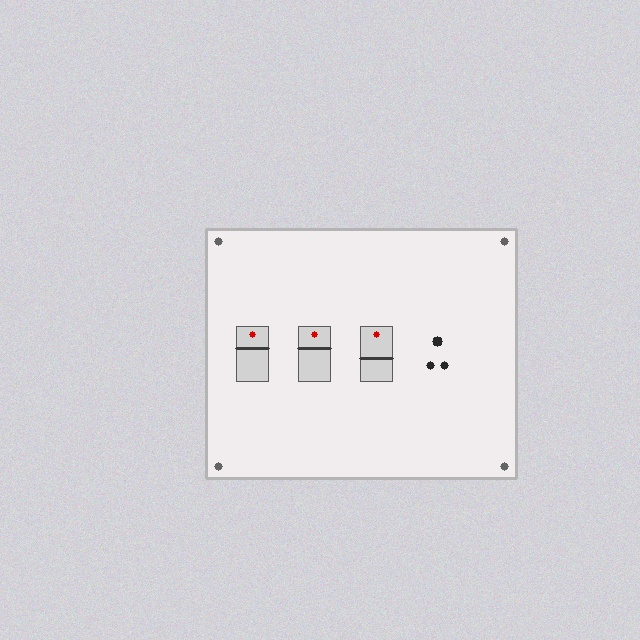switchboard: (206, 229, 516, 478)
